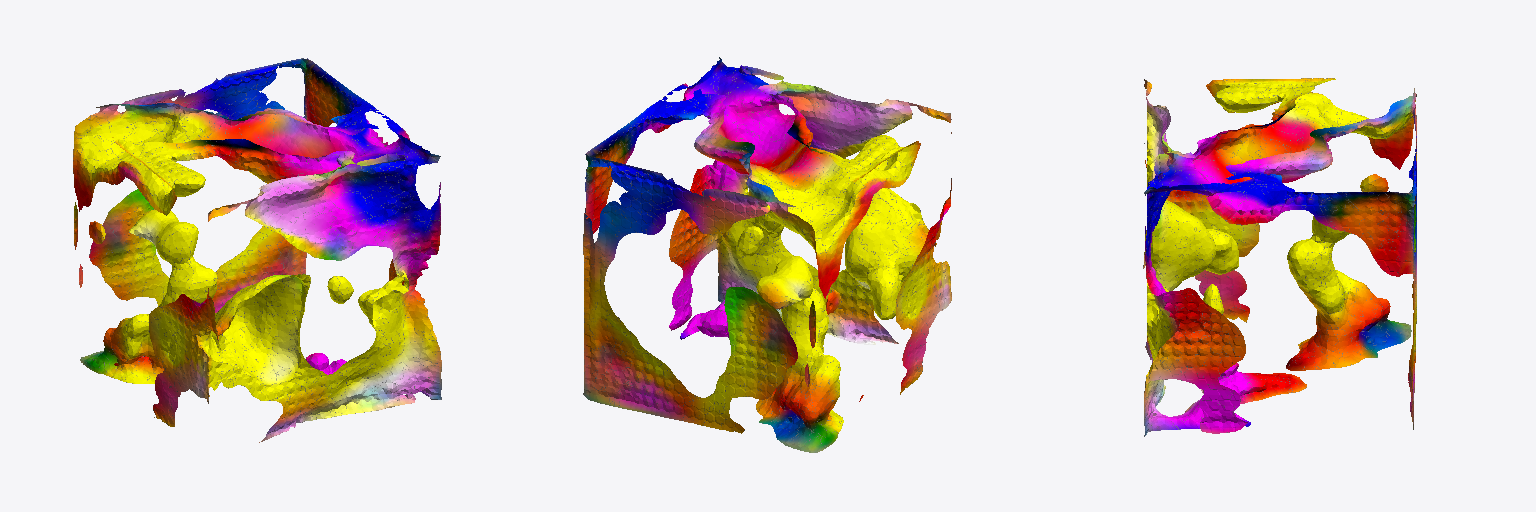
3 renders of one model, left to right at view 1: azimuth 30°, elevation 25°; view 2: azimuth 150°, elevation 25°; view 3: azimuth 270°, elevation 25°, orthographic.
Size of the model in its own units: 1.01 by 1.01 by 1.01.
Materials: 1 (1 with a texture image).